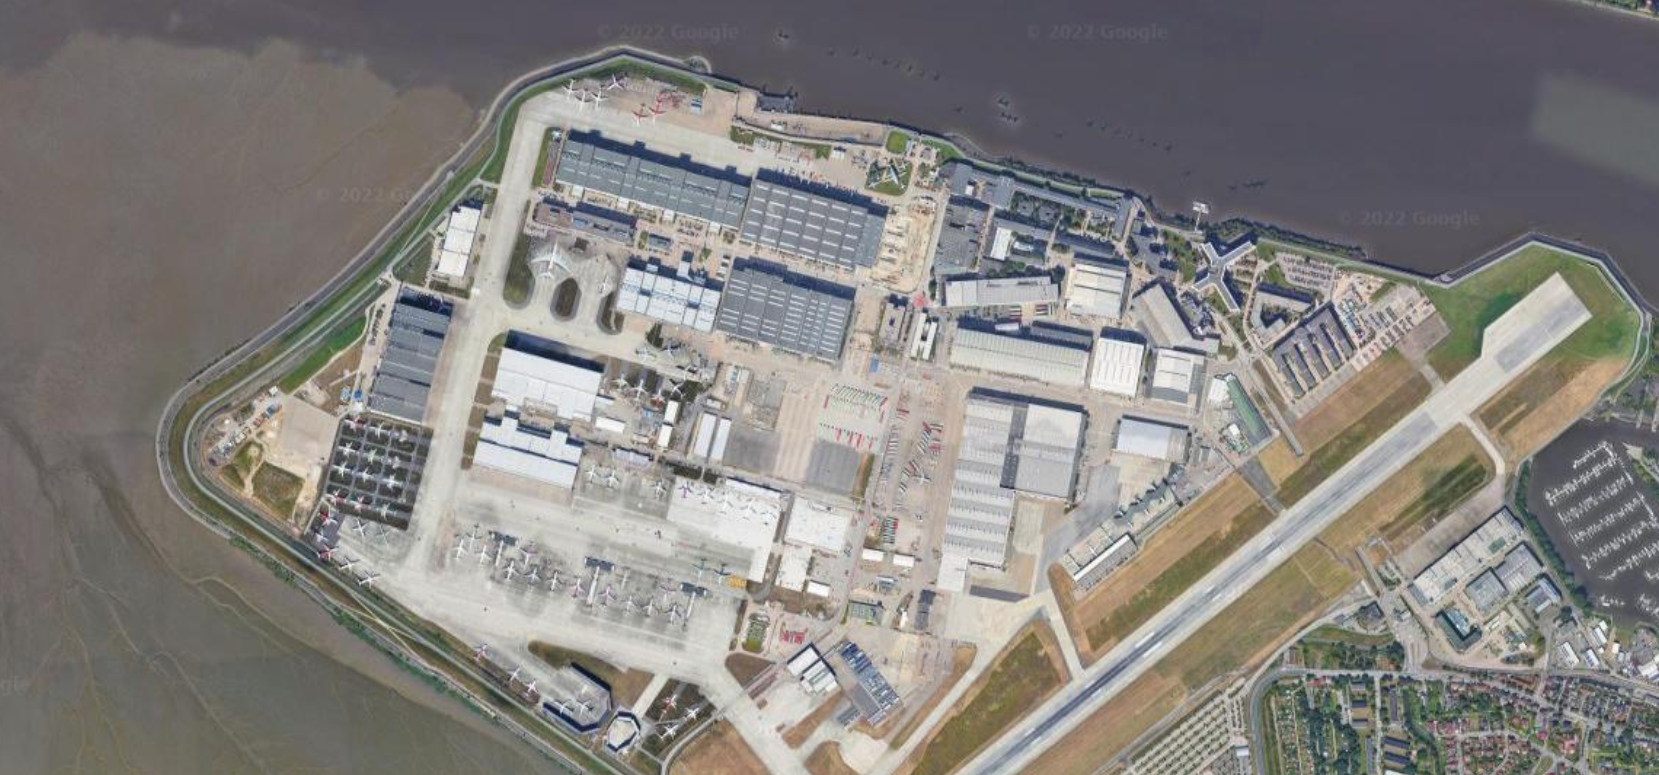plane: (530, 240, 570, 280), (630, 103, 650, 128), (712, 562, 732, 587), (358, 571, 383, 590), (464, 524, 484, 549), (315, 541, 338, 562), (690, 558, 711, 580), (338, 556, 361, 576), (519, 540, 537, 565), (635, 344, 657, 364), (649, 100, 666, 125), (661, 339, 681, 360), (606, 72, 628, 91), (373, 523, 393, 545), (318, 507, 338, 529), (449, 539, 468, 561), (641, 597, 660, 619), (561, 77, 579, 101), (616, 567, 634, 591), (631, 378, 649, 401), (659, 577, 676, 601), (589, 87, 608, 108), (500, 560, 519, 581), (664, 603, 683, 625), (667, 378, 686, 399), (554, 700, 577, 718), (575, 88, 591, 111), (475, 544, 492, 567), (603, 468, 620, 491), (675, 362, 698, 379), (544, 571, 562, 592), (568, 578, 586, 599), (648, 480, 667, 499), (352, 518, 370, 538), (759, 505, 777, 525), (718, 494, 735, 516), (740, 499, 756, 520), (1064, 549, 1082, 569), (621, 595, 638, 615), (599, 585, 615, 607), (583, 465, 599, 486), (525, 567, 543, 585), (507, 666, 523, 686), (697, 488, 714, 506), (473, 644, 489, 663), (663, 693, 678, 714), (661, 725, 679, 741), (678, 481, 693, 499), (524, 678, 537, 697), (577, 700, 592, 716), (683, 708, 700, 723), (597, 275, 612, 292)
